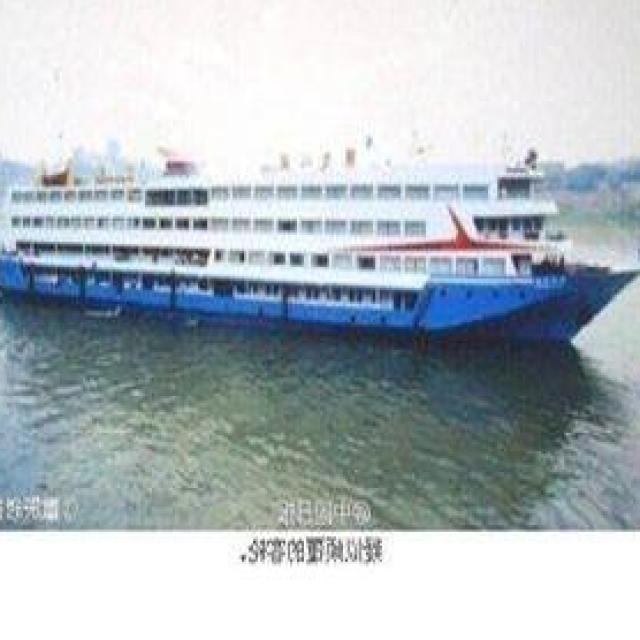passenger ship: (0, 129, 636, 334)
